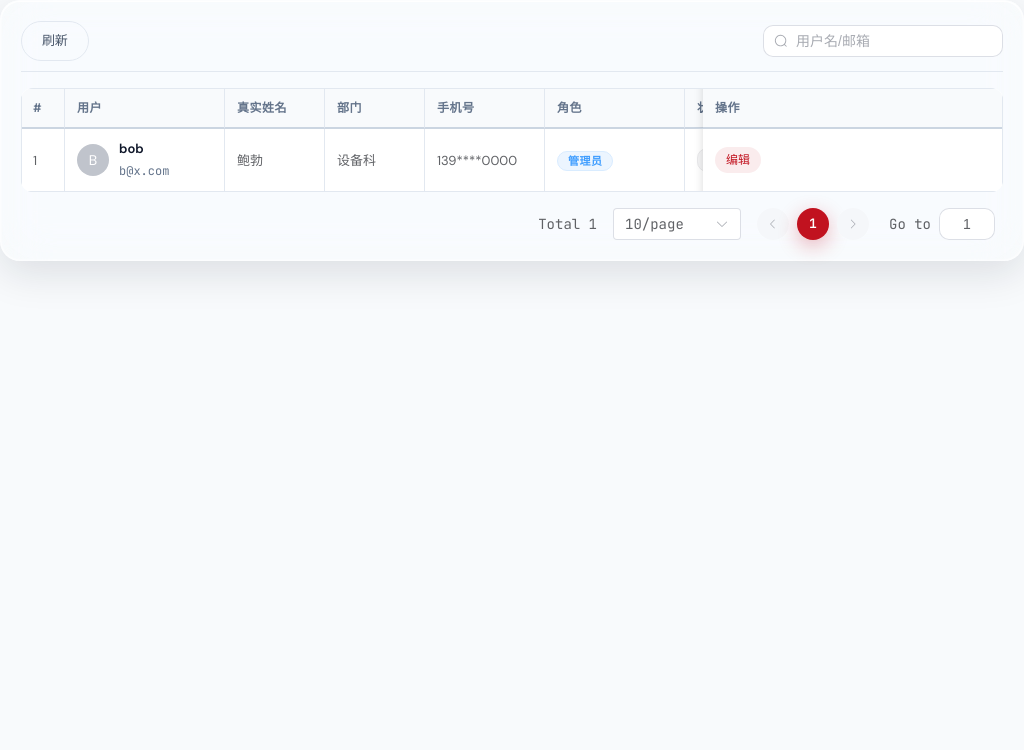
Test: UserView 手机号脱敏列与按需揭示（step-up + 脏判定） › 揭示：带口令与目标用户调 view-sensitive，明文进输入框并切换提示语
Click the button with class "glass-btn--link" at (738, 160), box 715,147 -> 761,173
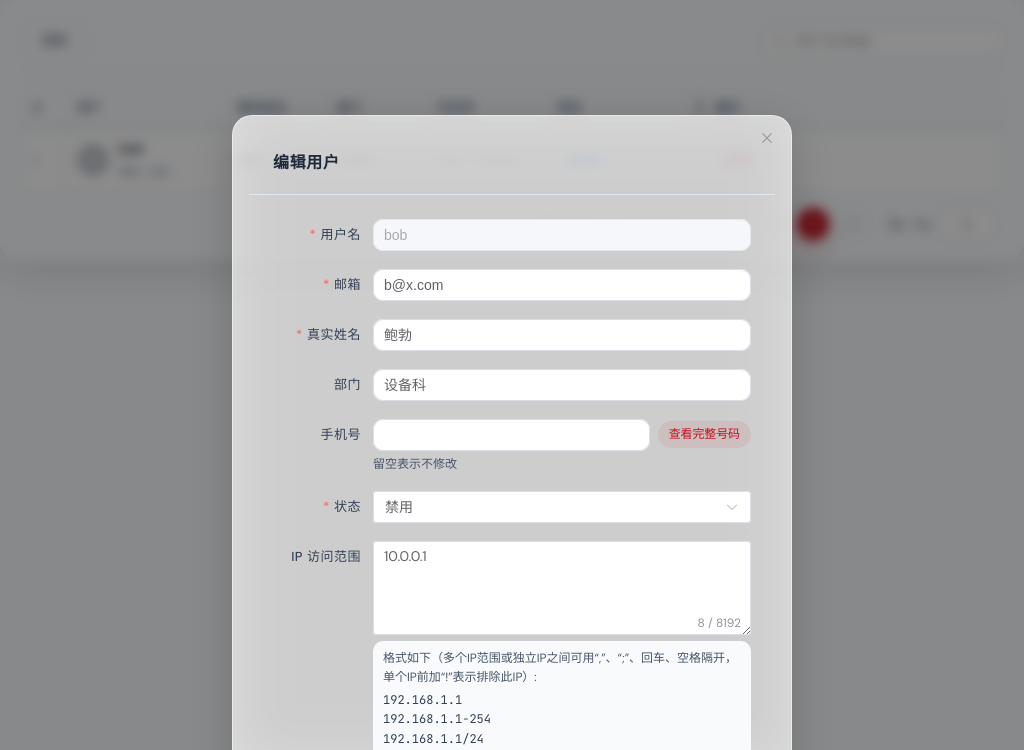
Click the button "查看完整号码" at (704, 435), box 658,421 -> 751,448
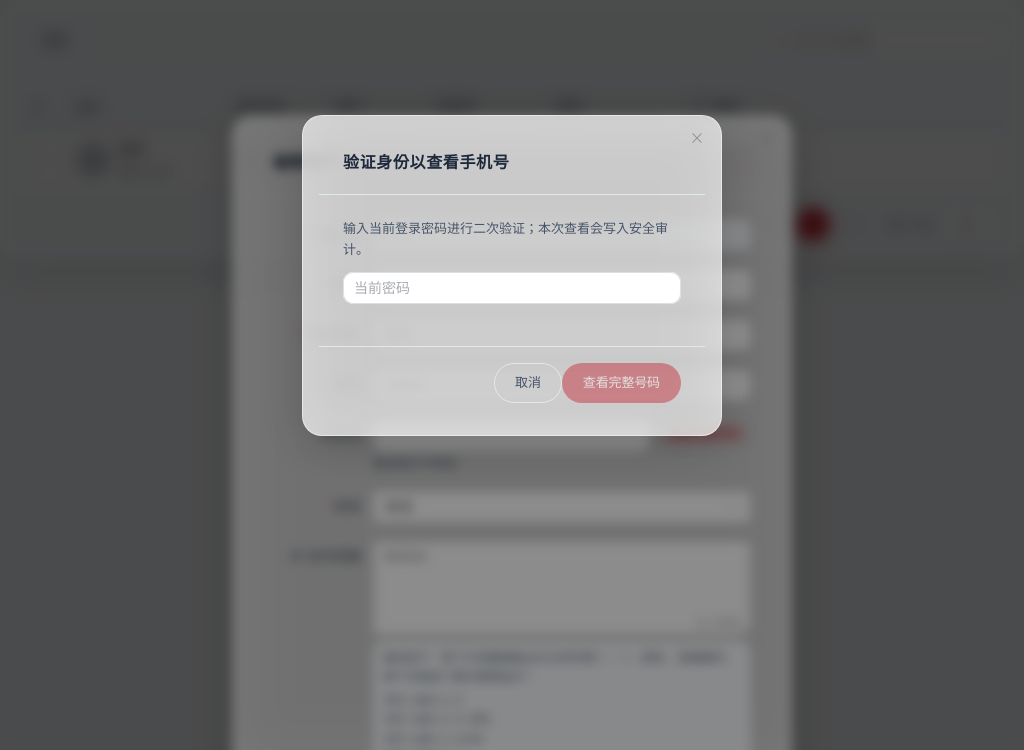
Type "CurrentP@ss" into the password field with placeholder "当前密码" at (512, 288), box 354,273 -> 670,303
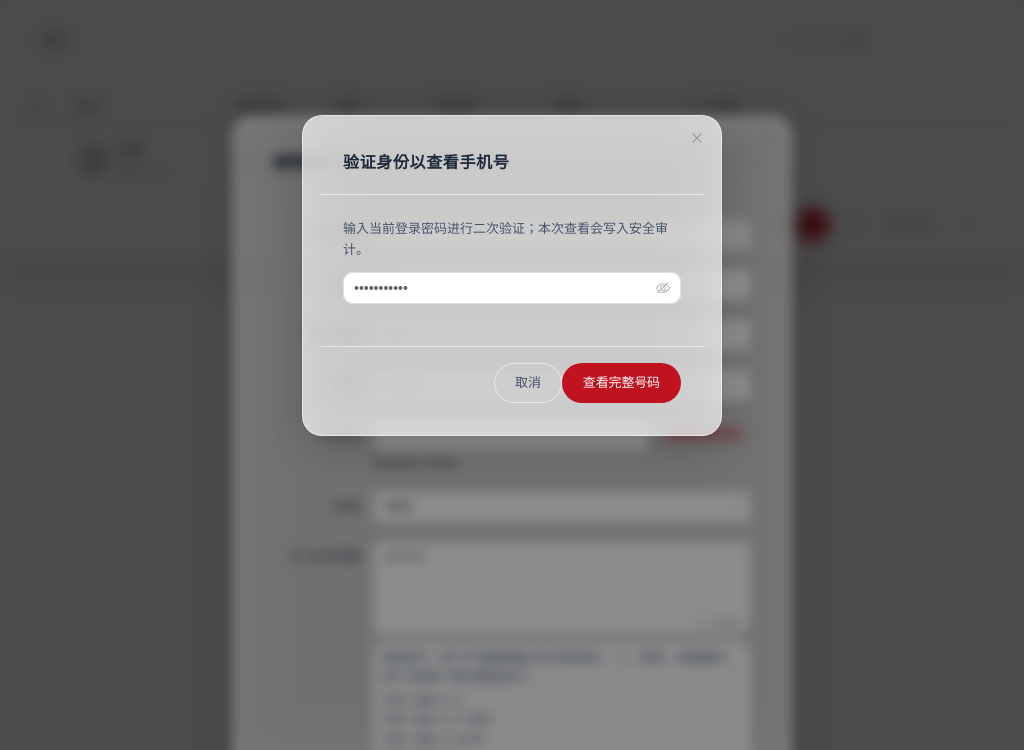
Expected: the button with class "glass-btn" showing "查看完整号码" is enabled
Click the button with class "glass-btn" showing "查看完整号码" at (621, 383), box 562,363 -> 681,403
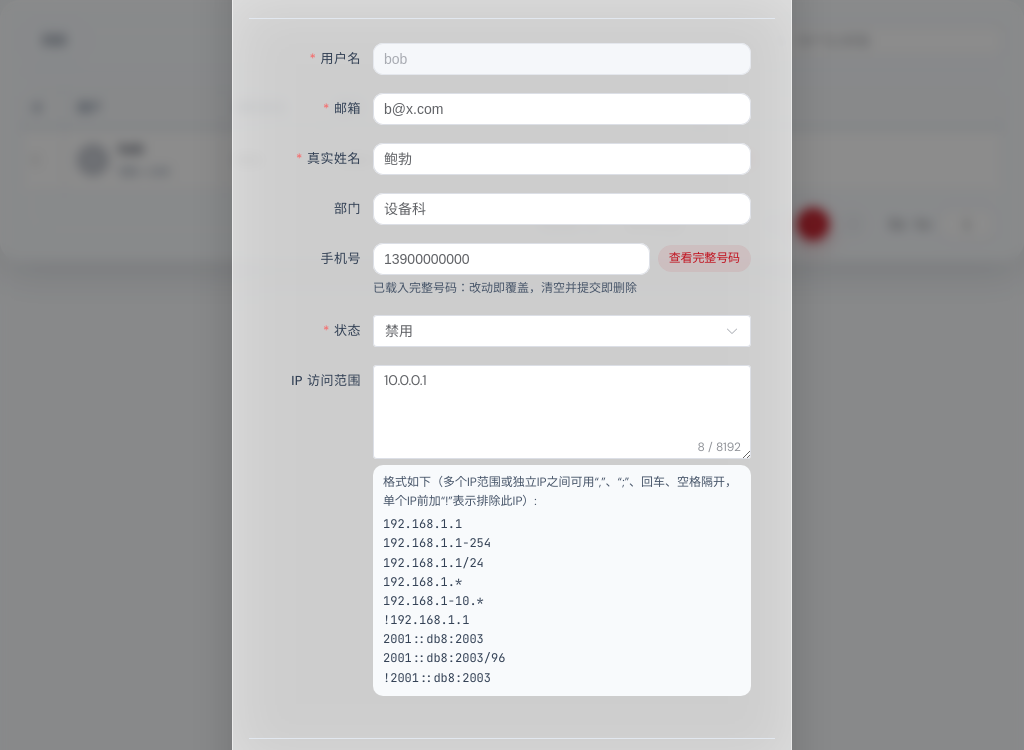
Expected: the element that starts with "编辑用户" shows "已载入完整号码", 373,280 -> 637,296
